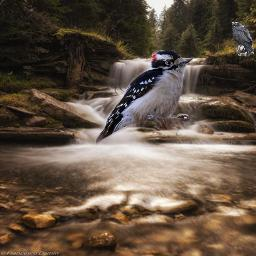Crow: (232, 22, 254, 57)
Woodpecker: (96, 50, 194, 145)
